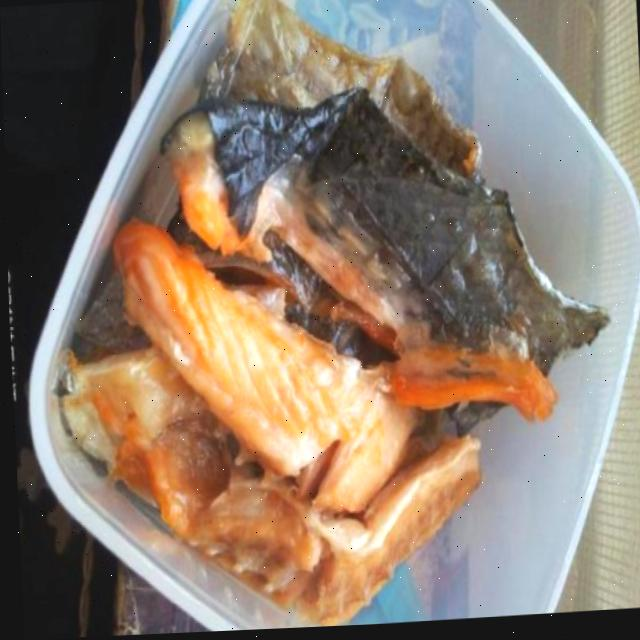熟制海鲜: (22, 0, 640, 639)
